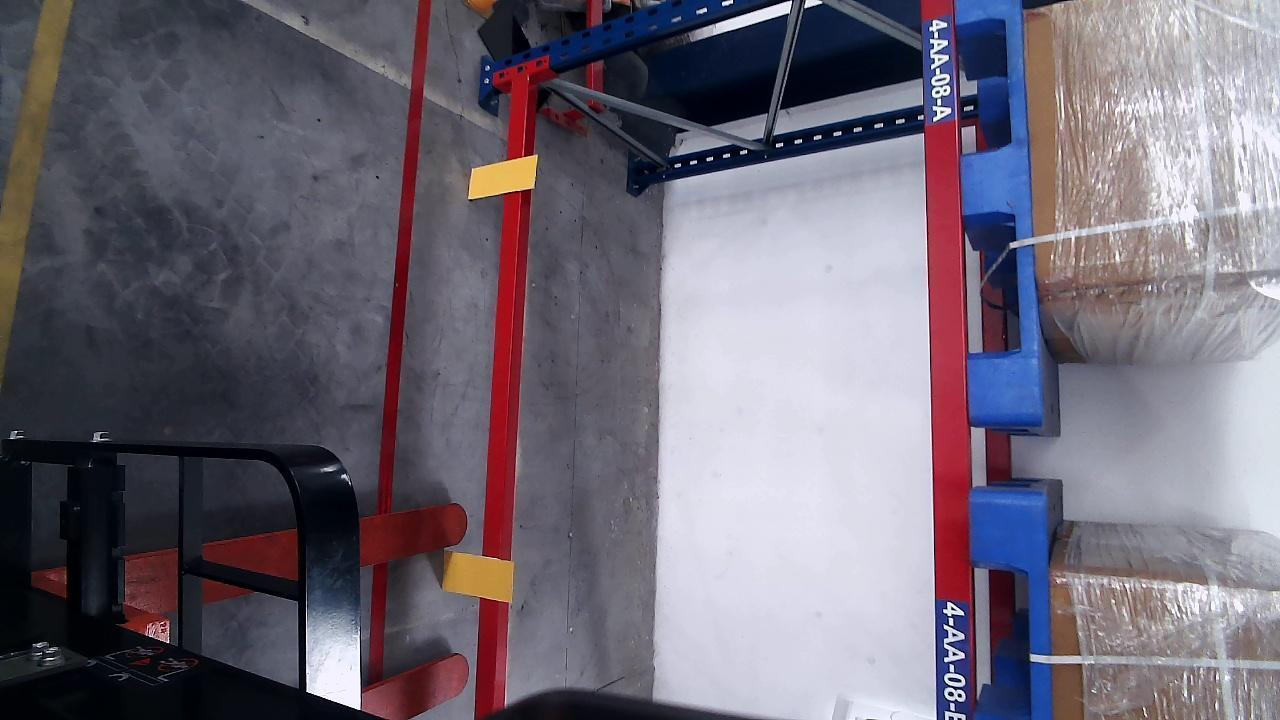red_line: (370, 0, 434, 682)
